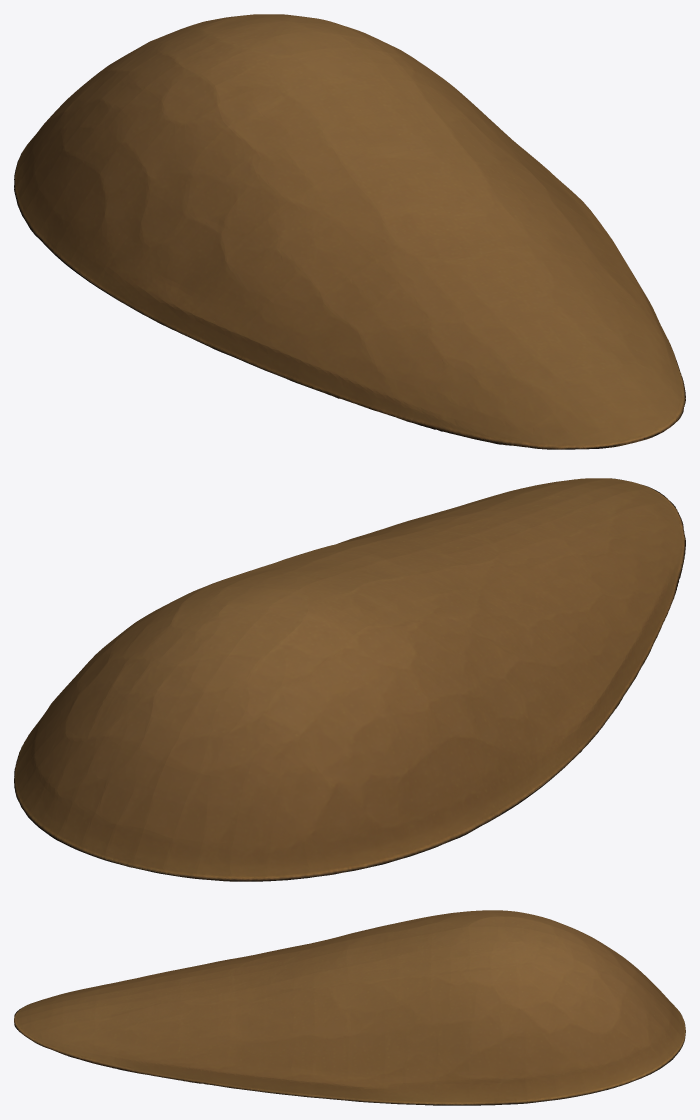
The picture shows the model from 3 angles, top to bottom: view 1: azimuth 30°, elevation 25°; view 2: azimuth 150°, elevation 25°; view 3: azimuth 270°, elevation 25°; orthographic projection. The views are drawn at different scales.
Visible parts, largest first — view 1: world; view 2: world; view 3: world.
Part boxes in pixels (left/top/right/bottom): world: left=14, top=14, right=685, bottom=449; world: left=14, top=478, right=685, bottom=881; world: left=14, top=910, right=685, bottom=1105.
Bounding box in the file's own units: 0.5203 × 0.1756 × 1.
Materials: 1 (1 with a texture image).
